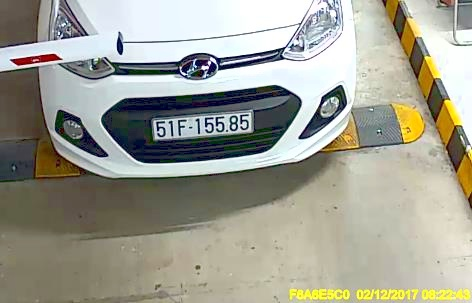plate: (151, 110, 255, 139)
